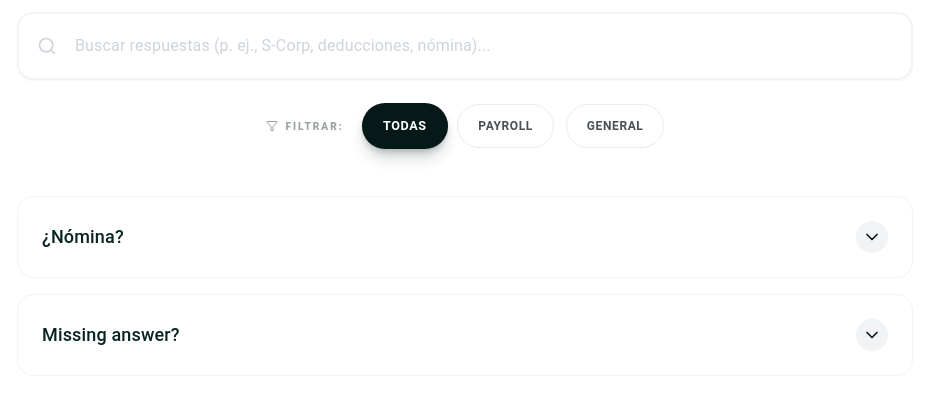
FAQList filtering › renders and searches CMS localized answers in Spanish
Type "cumplimiento" into the search field labelled "Buscar respuestas" at (465, 46), box [17, 12, 913, 80]
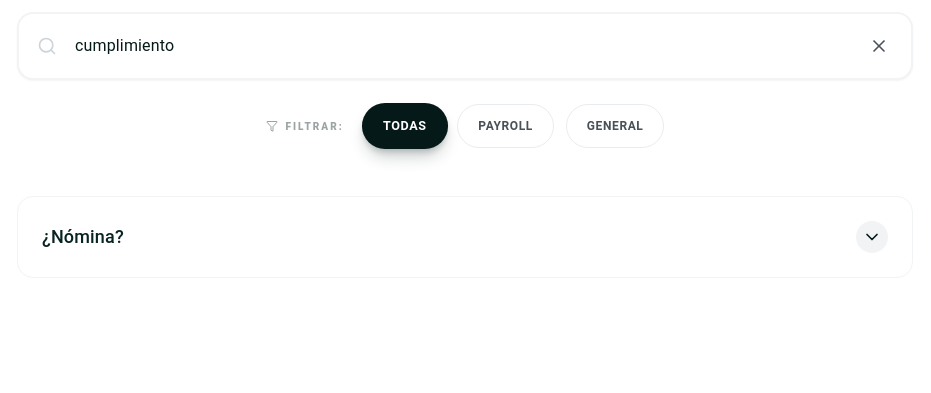
Click the button "¿Nómina?" at (83, 236), box [18, 197, 912, 277]
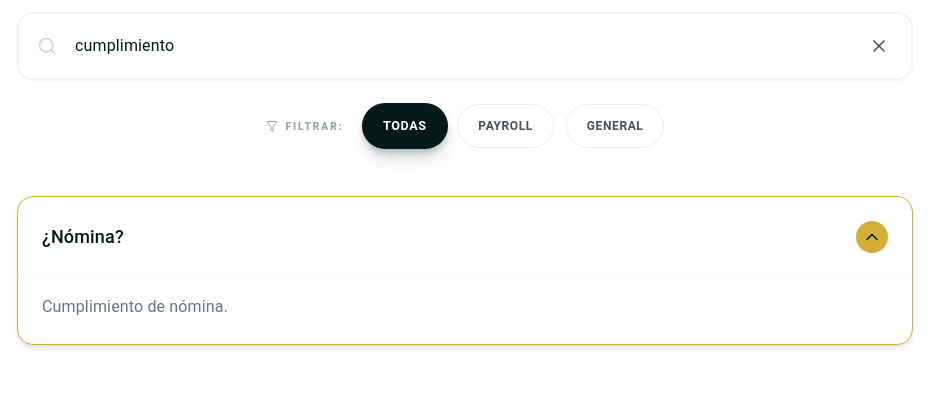
Expected: the button "Missing answer?" is not shown
Now the text "Cumplimiento de nómina." is shown, box [42, 297, 228, 316]
